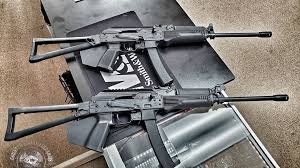gun: (4, 85, 289, 167), (27, 22, 272, 86)
